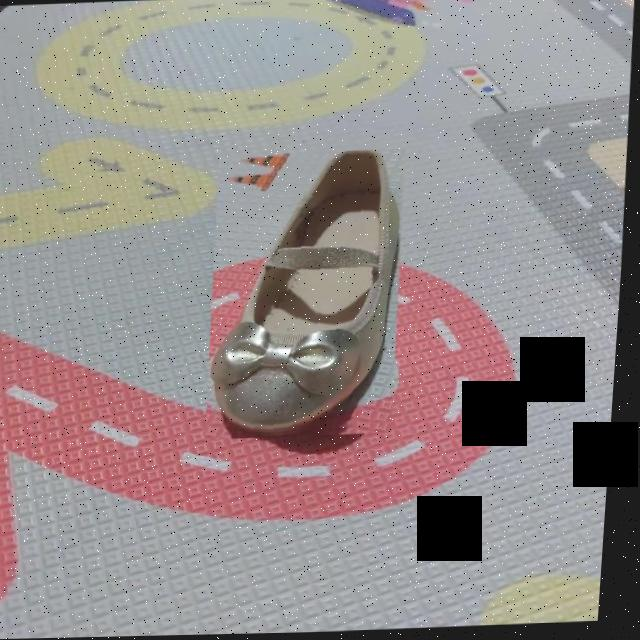shoe: (206, 150, 412, 441)
